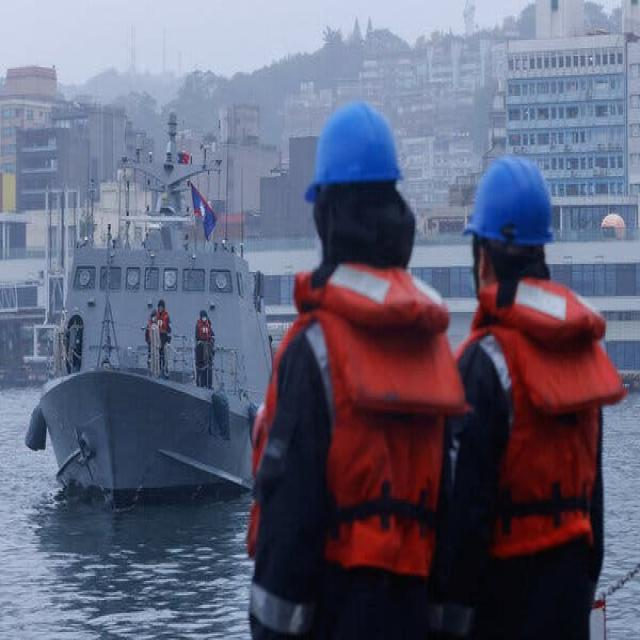helmet: (308, 95, 411, 208), (461, 149, 557, 260)
vest: (289, 263, 442, 572), (464, 283, 612, 559)
